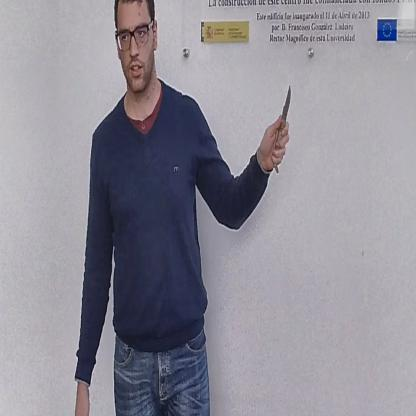knife: (269, 75, 294, 180)
